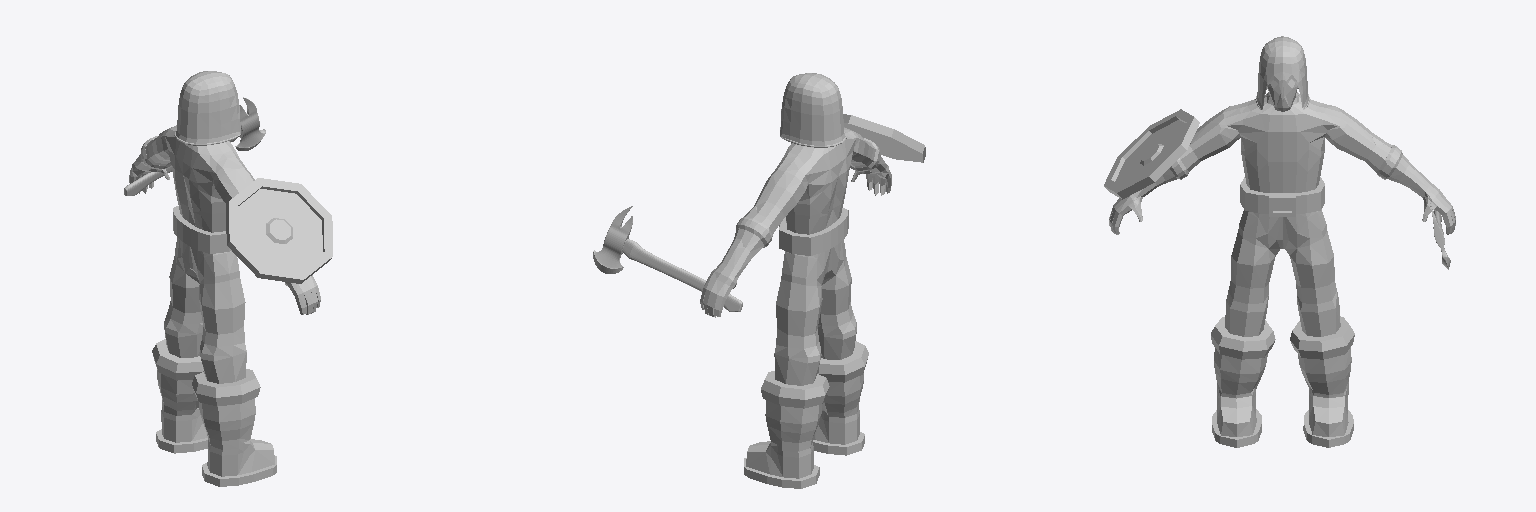
The model's file is PiezaRoja.obj.
3 views of the same model, side by side, from view 1: azimuth 30°, elevation 25°; view 2: azimuth 150°, elevation 25°; view 3: azimuth 270°, elevation 25° (orthographic).
Visible parts, largest first — view 1: PiezaRoja; view 2: PiezaRoja; view 3: PiezaRoja.
Part boxes in pixels (bbox=[...]): PiezaRoja: bbox=[124, 71, 332, 486]; PiezaRoja: bbox=[593, 73, 925, 488]; PiezaRoja: bbox=[1104, 36, 1455, 447].
Size of the model in its own units: 1.05 by 2.1 by 1.75.